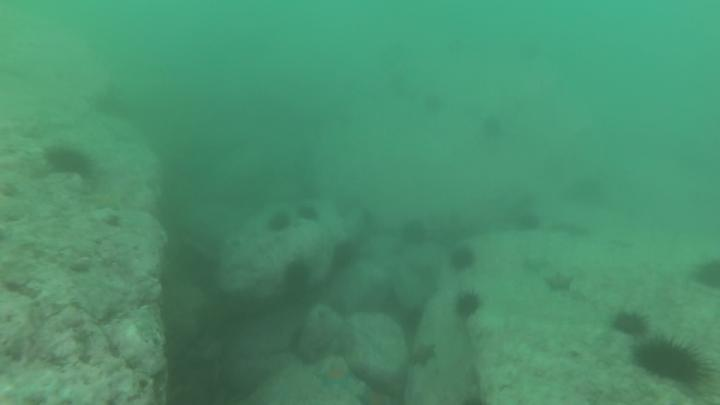echinus: (634, 336, 707, 389), (43, 144, 98, 184), (608, 307, 655, 341), (453, 290, 483, 323), (283, 259, 317, 288), (446, 244, 478, 274), (697, 256, 720, 294), (400, 219, 428, 247), (478, 113, 505, 141), (333, 241, 358, 270), (295, 201, 325, 225), (400, 306, 425, 334), (421, 91, 445, 116), (518, 212, 544, 235), (265, 210, 292, 232), (519, 40, 543, 64)
starfish: (317, 362, 357, 394), (542, 269, 578, 298), (405, 343, 441, 371)
